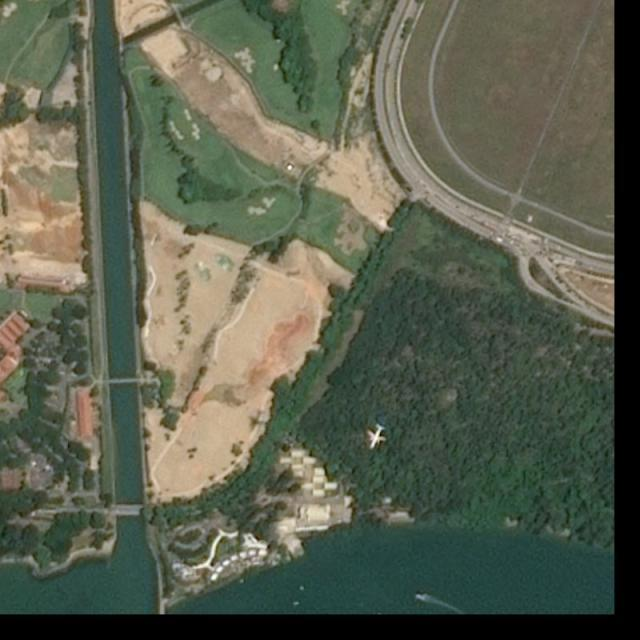ship: (415, 594, 424, 600)
